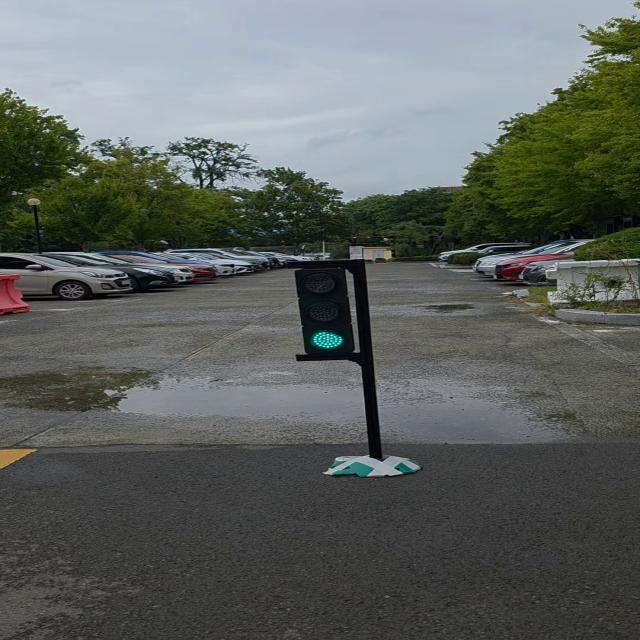green: (295, 262, 369, 358)
